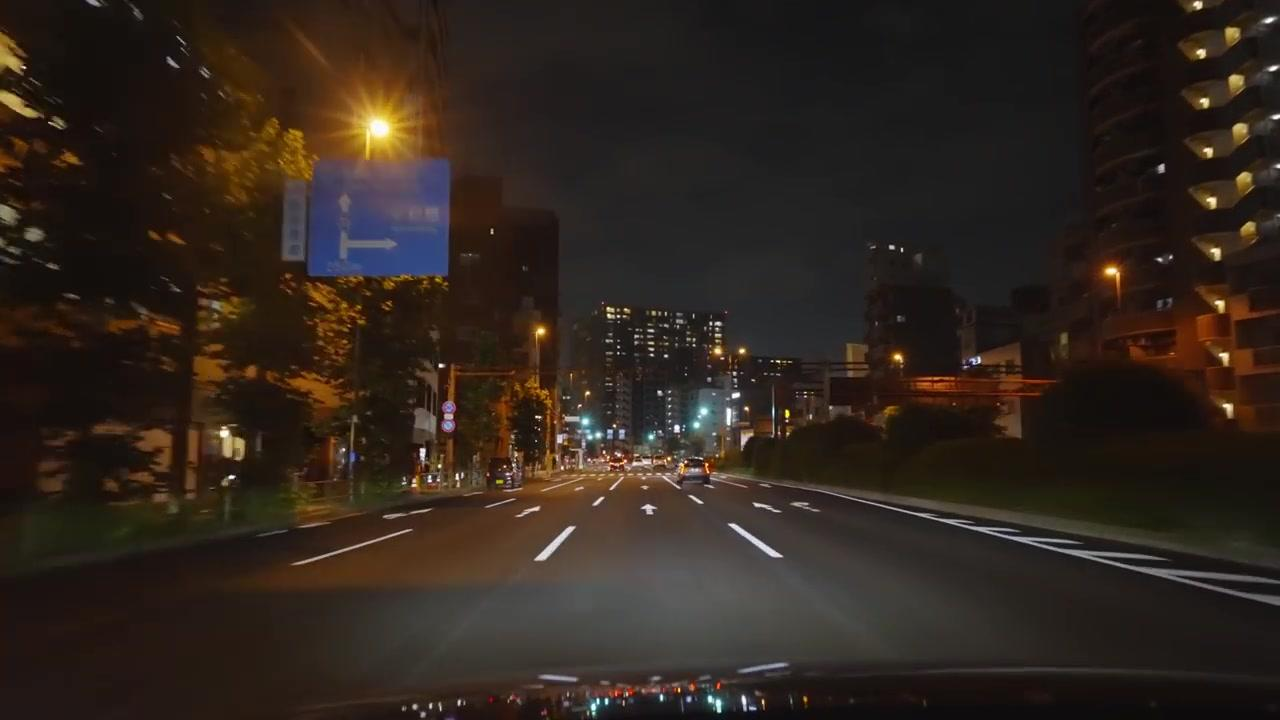car: (676, 457, 710, 482)
traffic light: (440, 401, 457, 433), (783, 408, 791, 421)
